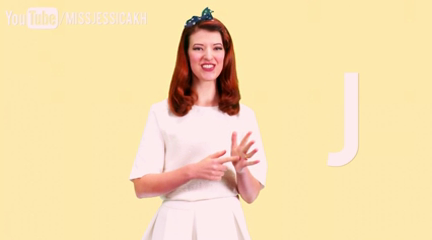J: (193, 127, 263, 183)
